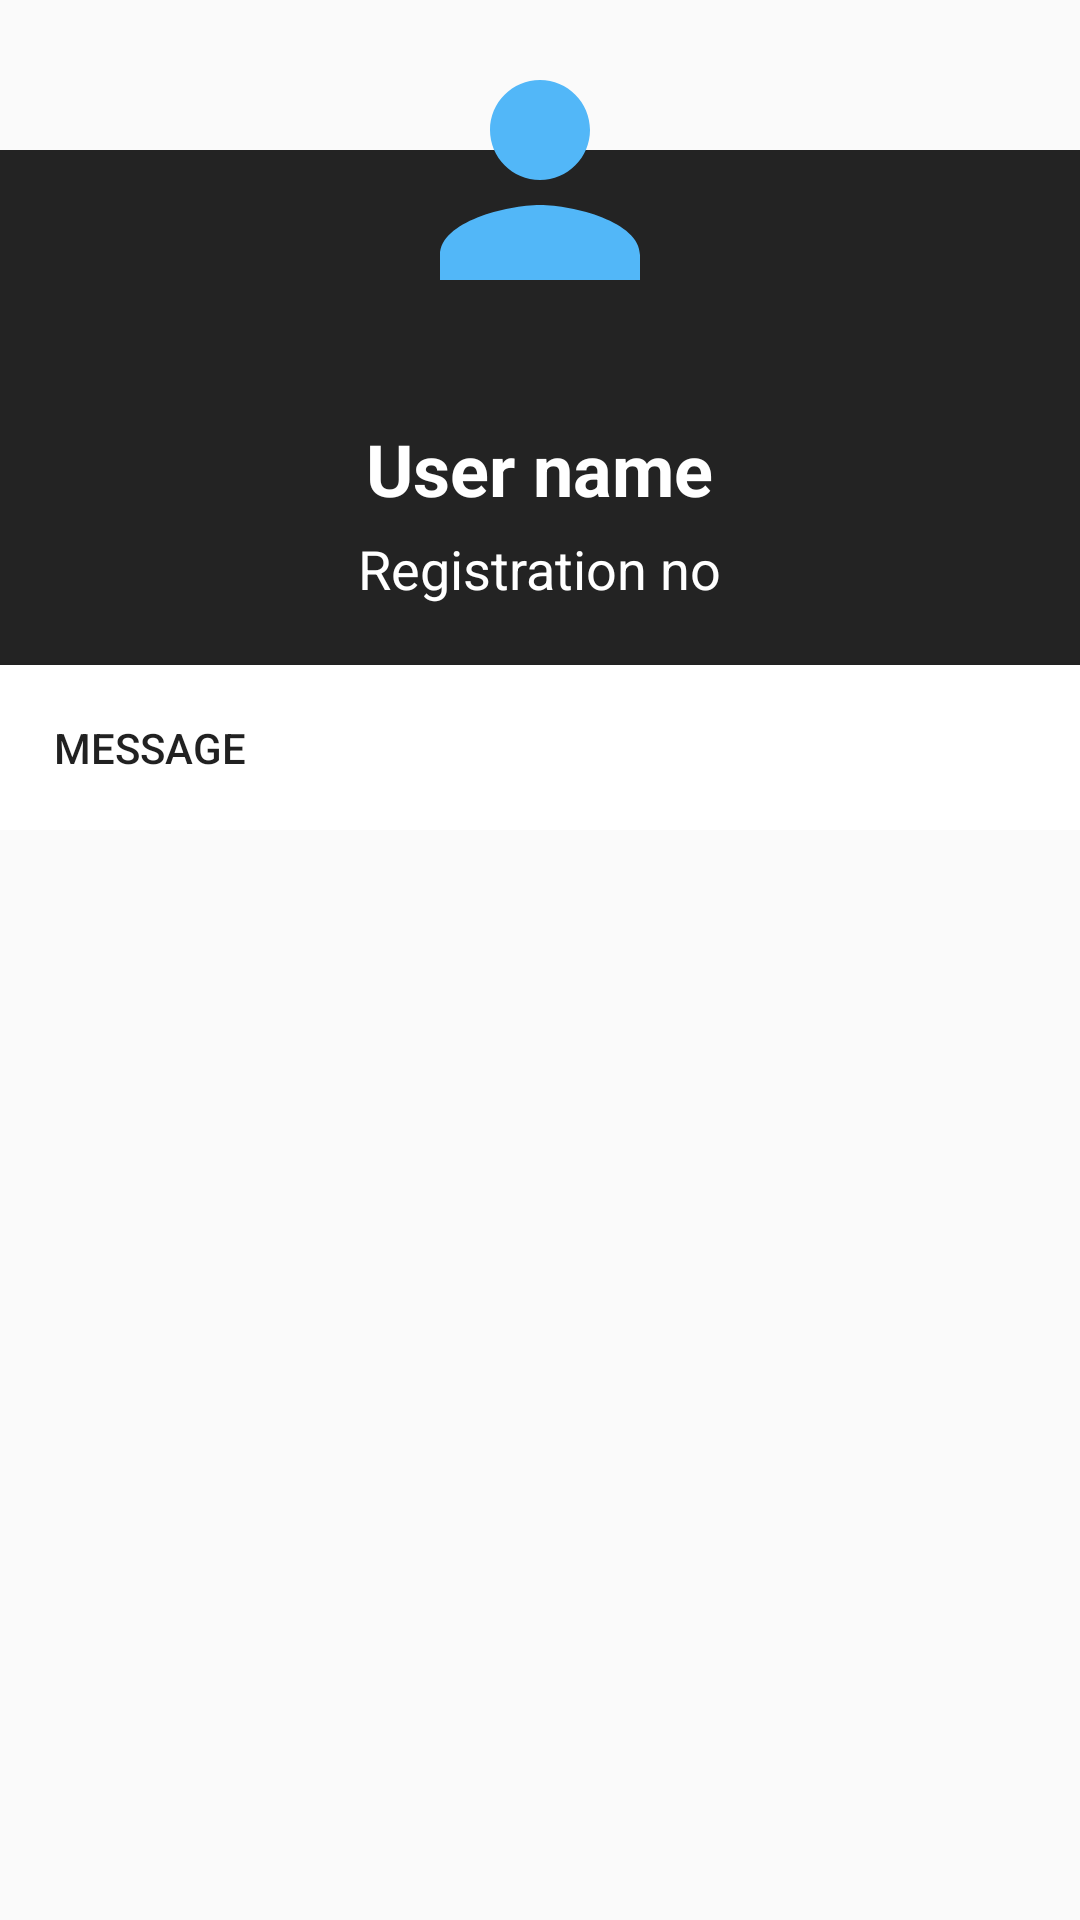

Where to tap for icons on this 1080x1920 app screen, as (x,y):
person: (540,140)
